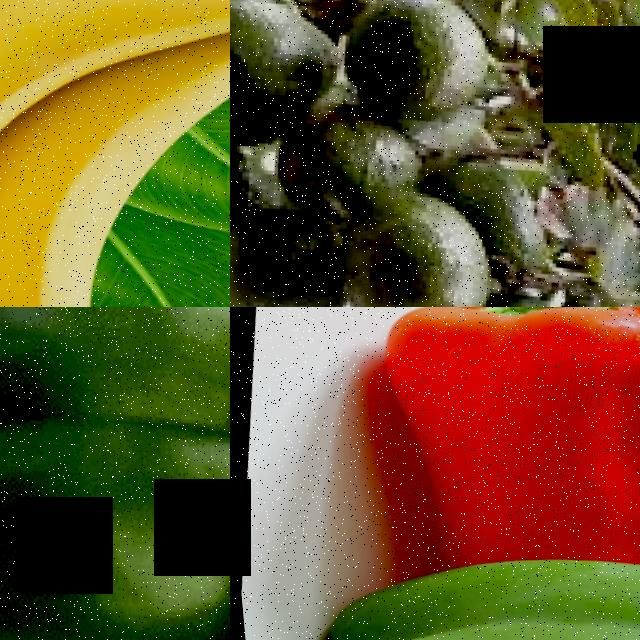avocado: (299, 179, 512, 307), (333, 0, 513, 141), (268, 103, 443, 236), (230, 0, 366, 169), (424, 148, 569, 302), (230, 192, 362, 307), (230, 137, 264, 250)
banana: (0, 0, 230, 307)
bell pepper: (0, 307, 230, 640), (411, 307, 640, 590), (233, 525, 640, 640)
